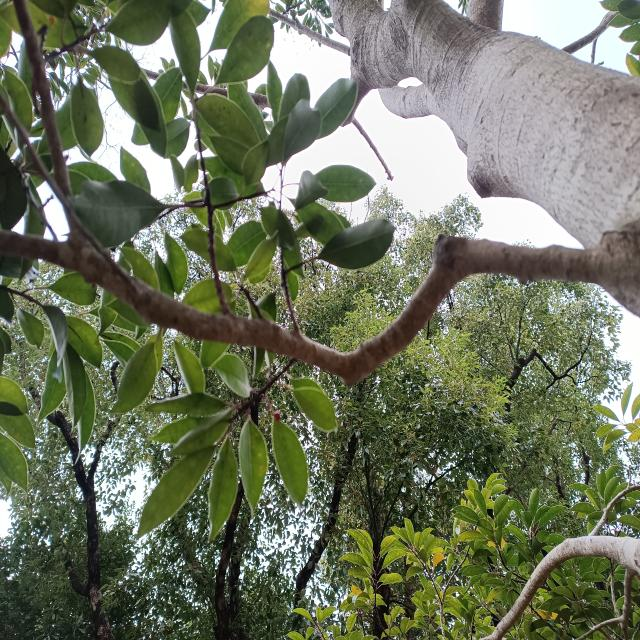Branch: (331, 0, 640, 318)
Twig: (4, 229, 599, 389), (480, 535, 640, 640), (578, 568, 636, 640), (268, 7, 351, 55), (381, 83, 428, 119), (610, 558, 629, 640)
